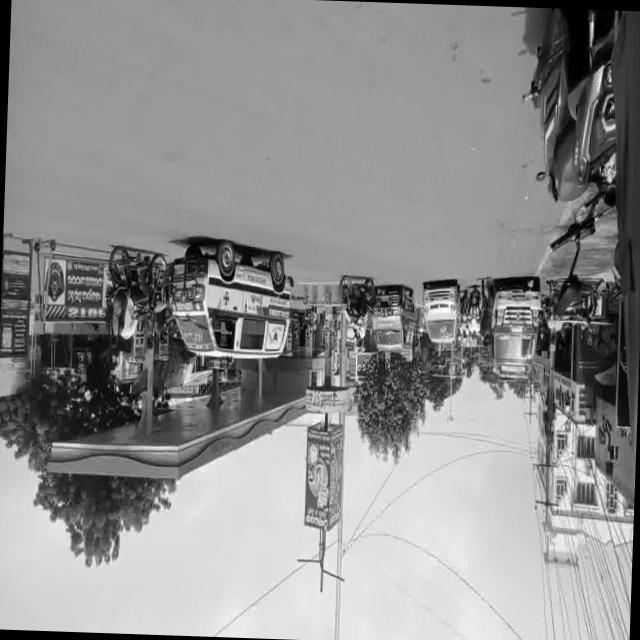ambulance: (168, 251, 290, 366), (488, 284, 542, 384), (373, 286, 412, 356)
